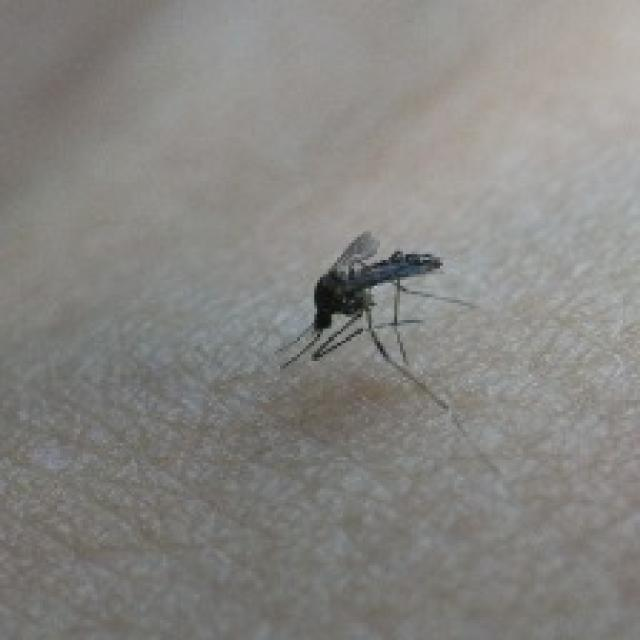aedes: (241, 206, 508, 441)
